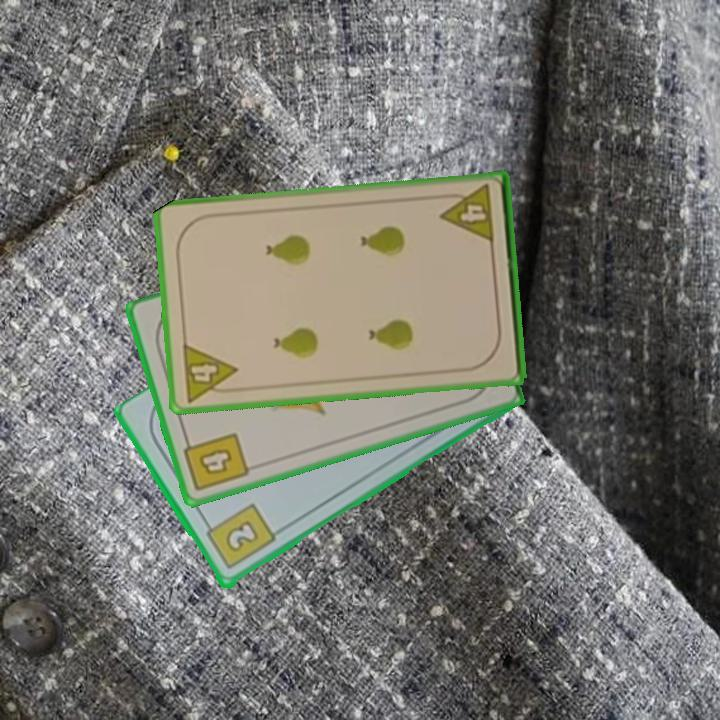2b: (200, 500, 279, 573)
4b: (180, 429, 252, 495)
4p: (179, 340, 241, 405), (436, 181, 497, 246)
